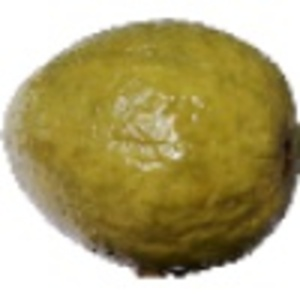goiaba: (5, 10, 299, 271)
